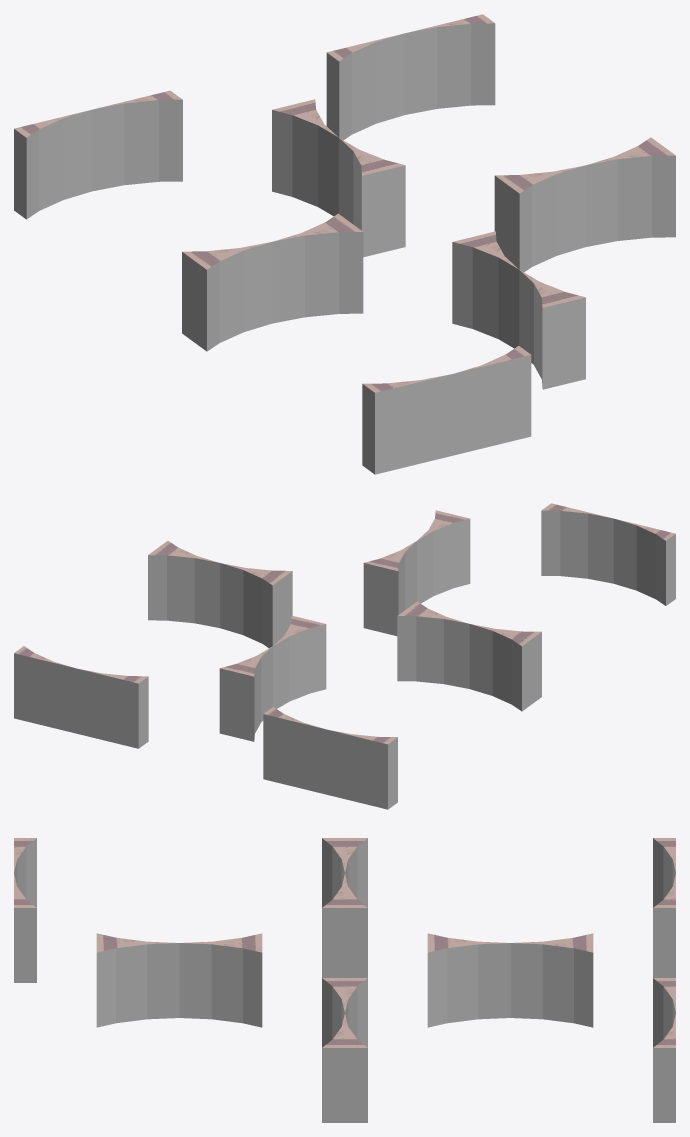
Rendered from lvl11_fixed platform_world1.fbx.
The picture shows the model from 3 angles, top to bottom: view 1: azimuth 30°, elevation 25°; view 2: azimuth 150°, elevation 25°; view 3: azimuth 270°, elevation 25°; orthographic projection. The views are drawn at different scales.
Parts seen in each view (by area): view 1: Cylinder.040, Cylinder.029, Cylinder.042, Cylinder.050, Cylinder.047, Cylinder.044, Cylinder.051, Cylinder.046, Cylinder.052, Cylinder.043, Cylinder.048; view 2: Cylinder.043, Cylinder.040, Cylinder.050, Cylinder.042, Cylinder.048, Cylinder.051, Cylinder.044, Cylinder.046, Cylinder.052, Cylinder.029, Cylinder.047; view 3: Cylinder.046, Cylinder.052, Cylinder.040, Cylinder.047, Cylinder.048, Cylinder.050, Cylinder.029, Cylinder.042, Cylinder.043, Cylinder.044, Cylinder.051.
Part boxes in pixels (<box>): Cylinder.040: <box>362,346,531,474</box>; Cylinder.029: <box>194,222,363,351</box>; Cylinder.042: <box>14,90,182,219</box>; Cylinder.050: <box>326,14,495,140</box>; Cylinder.047: <box>507,146,675,272</box>; Cylinder.044: <box>452,236,564,389</box>; Cylinder.051: <box>272,104,383,257</box>; Cylinder.046: <box>474,231,585,384</box>; Cylinder.052: <box>294,99,405,252</box>; Cylinder.043: <box>182,213,350,342</box>; Cylinder.048: <box>494,137,662,257</box>; Cylinder.043: <box>397,608,531,711</box>; Cylinder.040: <box>541,503,675,605</box>; Cylinder.050: <box>14,646,148,748</box>; Cylinder.042: <box>263,707,397,809</box>; Cylinder.048: <box>148,548,282,648</box>; Cylinder.051: <box>237,620,326,741</box>; Cylinder.044: <box>381,514,470,635</box>; Cylinder.046: <box>363,510,452,632</box>; Cylinder.052: <box>219,615,308,737</box>; Cylinder.029: <box>408,601,541,703</box>; Cylinder.047: <box>158,541,292,636</box>; Cylinder.046: <box>96,943,262,1027</box>; Cylinder.052: <box>427,943,593,1027</box>; Cylinder.040: <box>14,838,36,982</box>; Cylinder.047: <box>322,978,344,1122</box>; Cylinder.048: <box>345,978,367,1122</box>; Cylinder.050: <box>653,978,675,1122</box>; Cylinder.029: <box>322,838,344,977</box>; Cylinder.042: <box>653,838,675,977</box>; Cylinder.043: <box>345,838,367,977</box>; Cylinder.044: <box>96,933,262,942</box>; Cylinder.051: <box>427,933,593,942</box>.
Size of the model in its own units: 6000 by 1000 by 8000.
